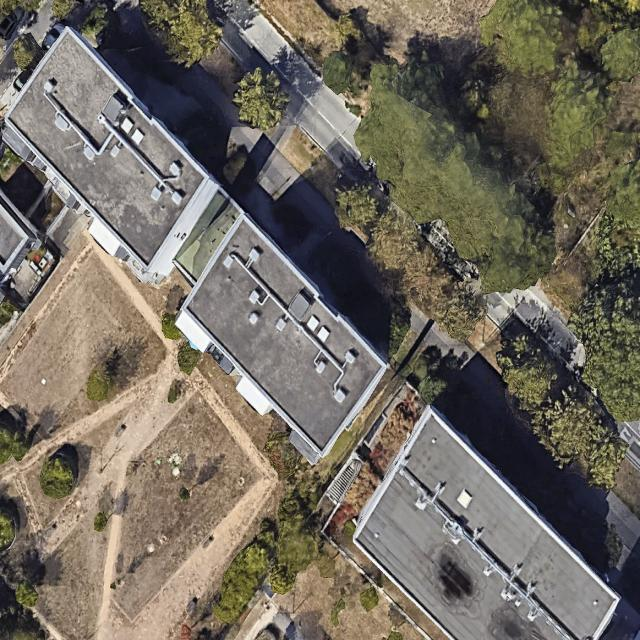immeuble: (321, 402, 631, 640), (0, 22, 243, 296), (151, 210, 405, 468), (0, 191, 39, 276)
